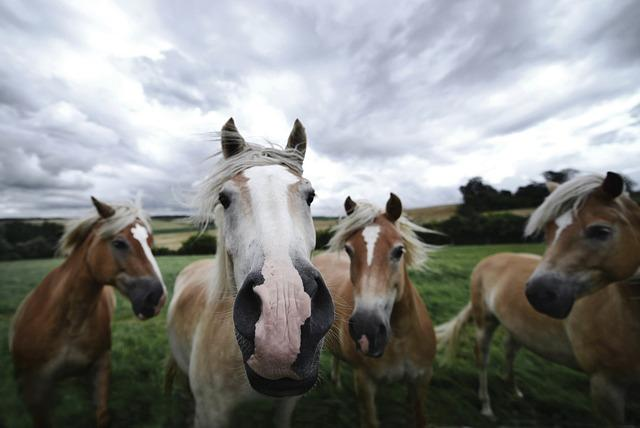Non_Gorille: (26, 50, 640, 418)
